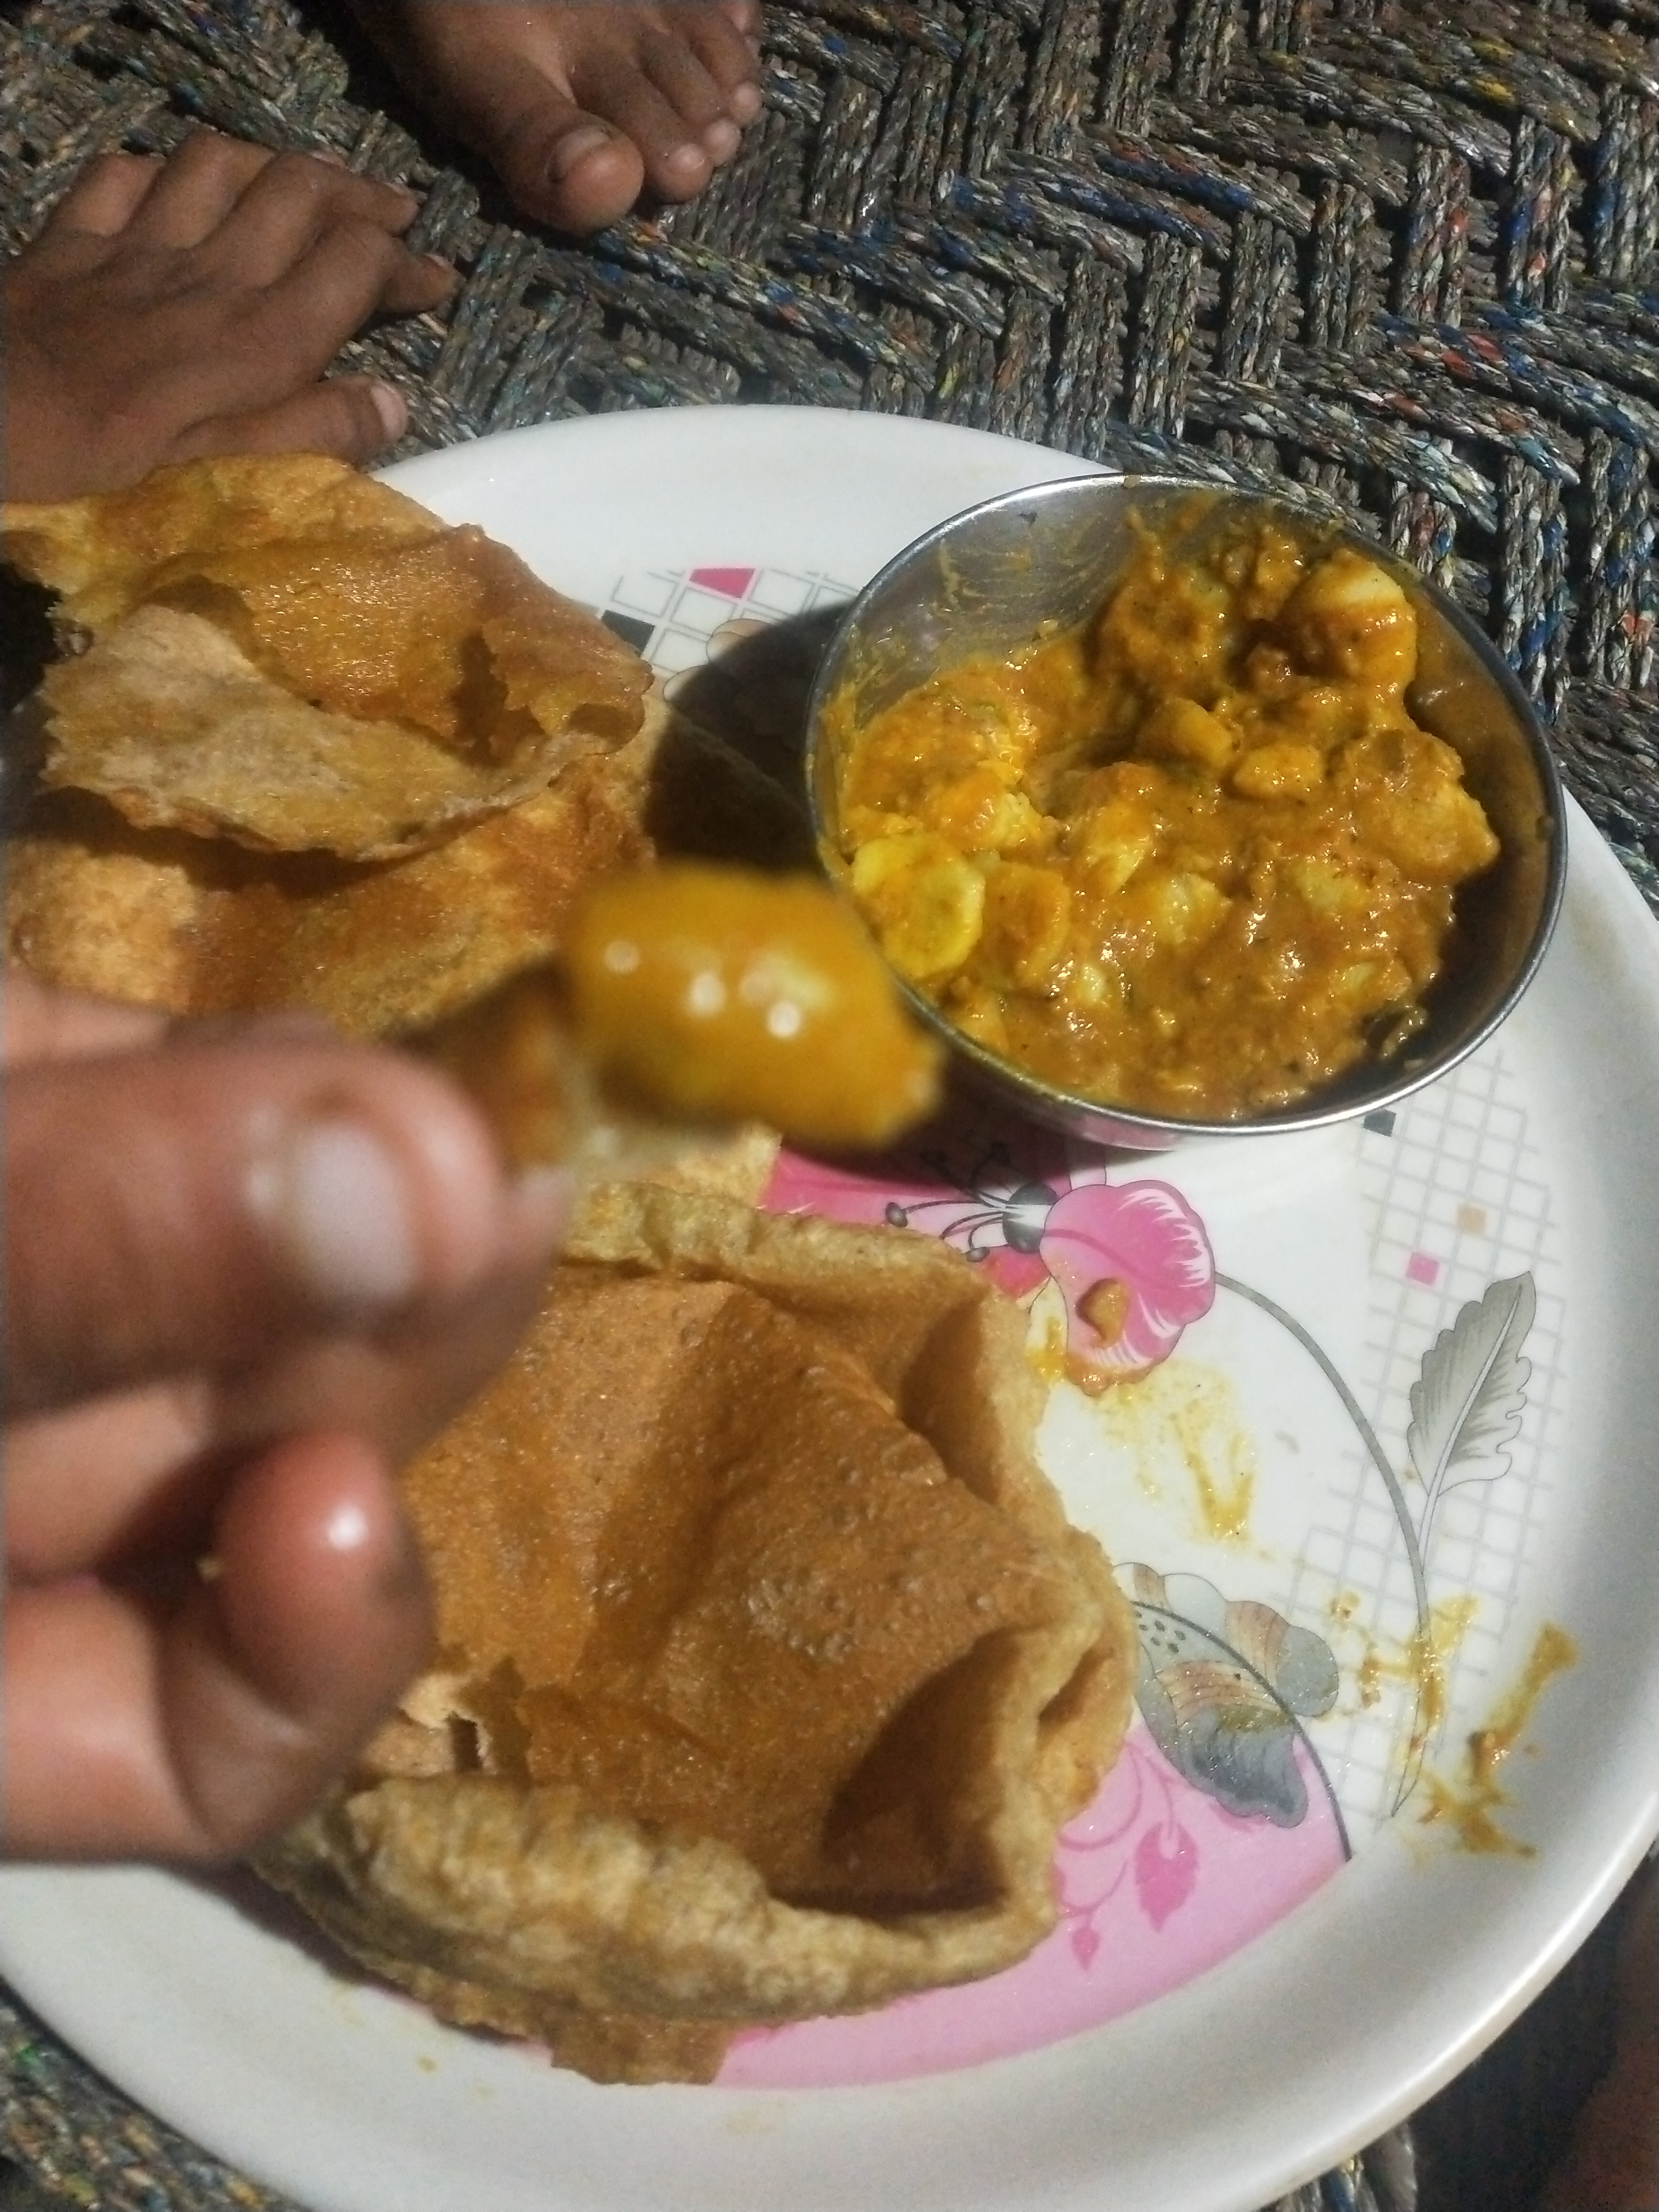food: (3, 434, 1516, 2095)
